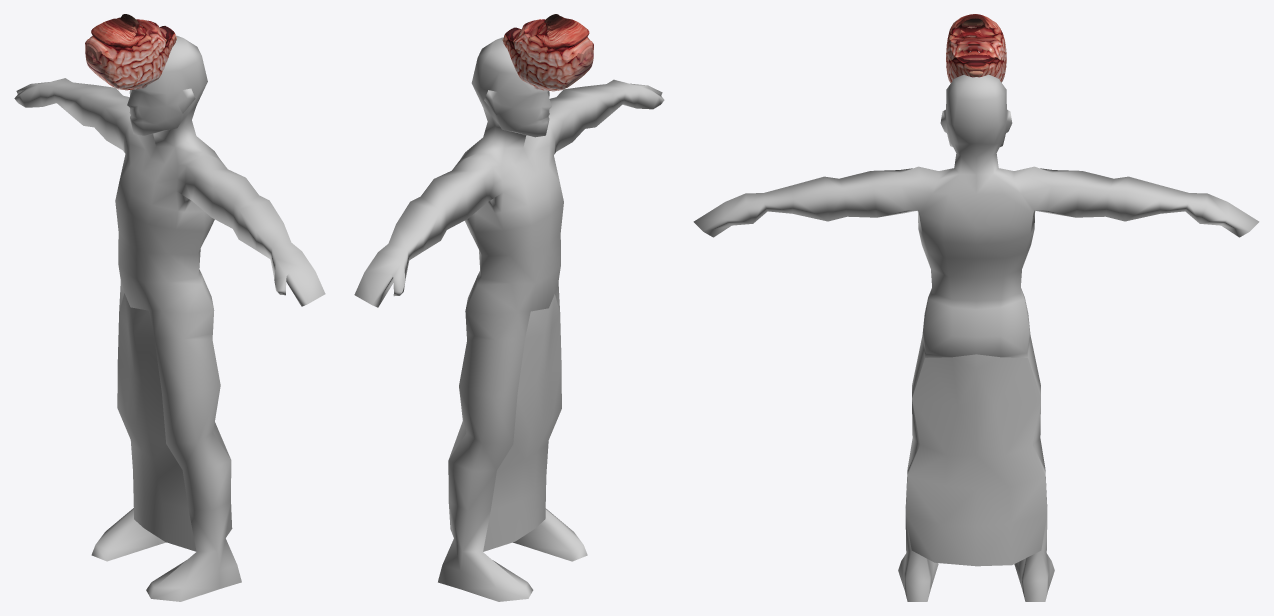
The model's file is AuthenticBrain.fbx.
3 views of the same model, side by side, from view 1: azimuth 30°, elevation 25°; view 2: azimuth 150°, elevation 25°; view 3: azimuth 270°, elevation 25° (orthographic). The views are drawn at different scales.
Visible parts, largest first — view 1: Body, Cube; view 2: Body, Cube; view 3: Body, Cube.
Part boxes in pixels (box(x1,y1,x2,y2)): Body: box(14, 35, 325, 601); Cube: box(85, 14, 176, 90); Body: box(354, 37, 664, 601); Cube: box(502, 14, 593, 91); Body: box(693, 75, 1259, 601); Cube: box(946, 14, 1006, 83).
Bounding box in the file's own units: 0.9865 × 1.05 × 0.2444.
